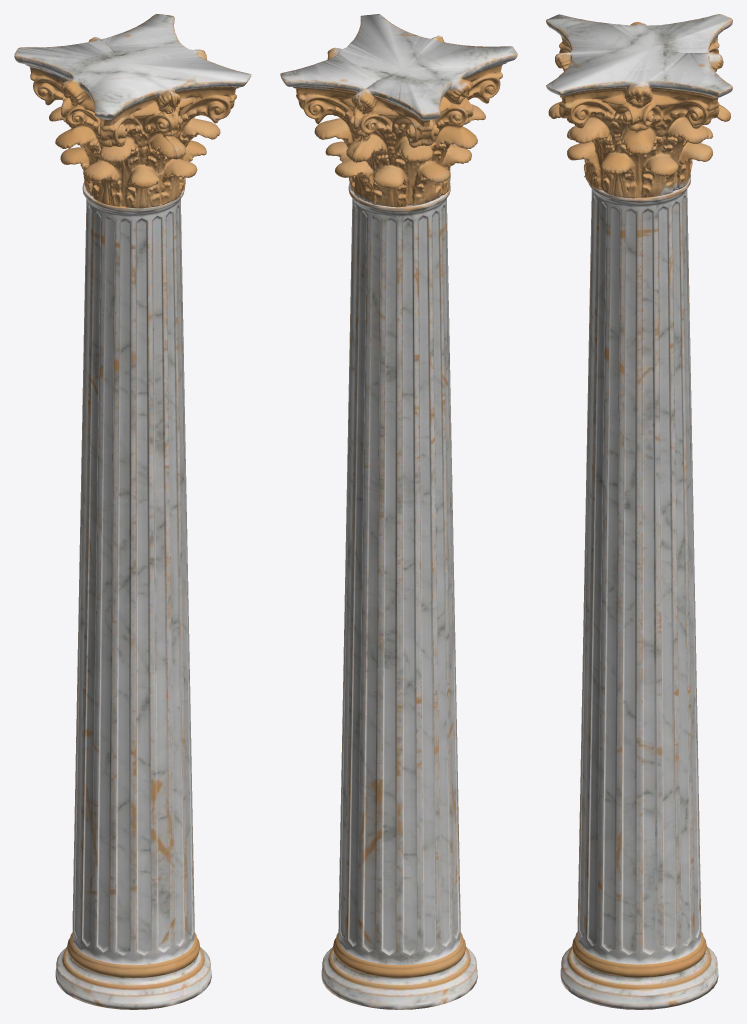
The model's file is pillar.glb.
3 renders of one model, left to right at view 1: azimuth 30°, elevation 25°; view 2: azimuth 150°, elevation 25°; view 3: azimuth 270°, elevation 25°, orthographic.
Parts seen in each view (by area): view 1: Corinthian Column (without label).001; view 2: Corinthian Column (without label).001; view 3: Corinthian Column (without label).001.
Boxes of the visible parts, left/top/right/bottom form: Corinthian Column (without label).001: left=14, top=14, right=251, bottom=1009; Corinthian Column (without label).001: left=280, top=14, right=517, bottom=1009; Corinthian Column (without label).001: left=546, top=14, right=732, bottom=1009.
Size of the model in its own units: 3.25 by 17.76 by 3.26.
1 material, 1 textured.
